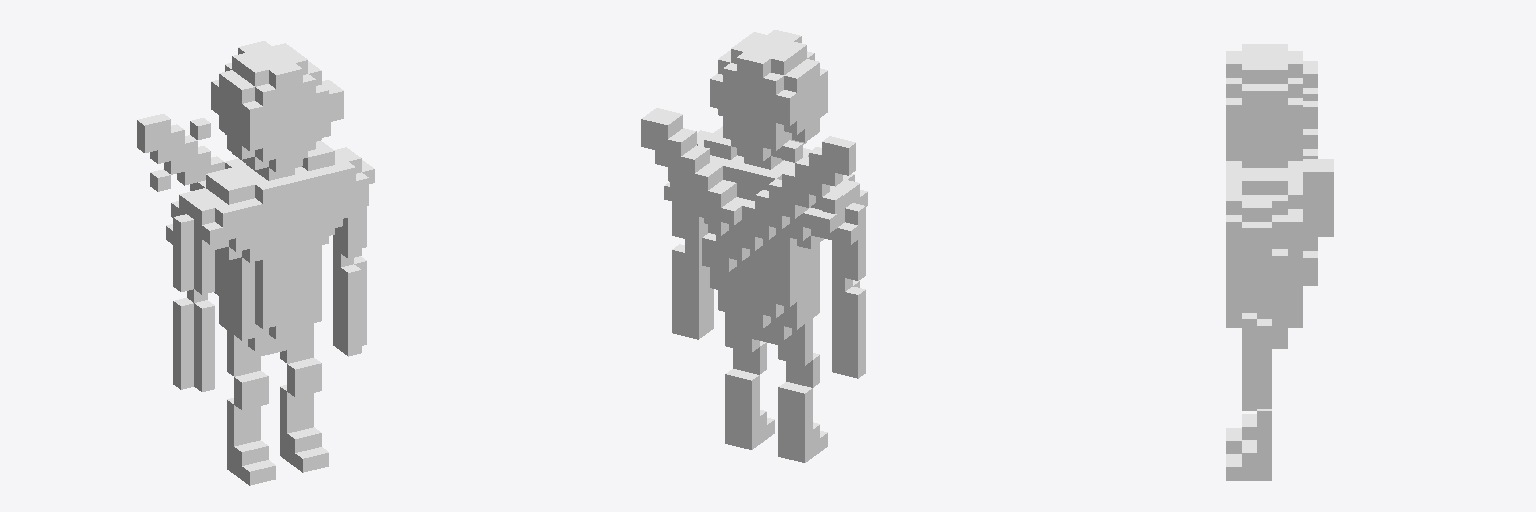
Rendered from vedmack.obj.
The picture shows the model from 3 angles: view 1: azimuth 30°, elevation 25°; view 2: azimuth 150°, elevation 25°; view 3: azimuth 270°, elevation 25°; orthographic projection.
Visible parts, largest first — view 1: object 1; view 2: object 1; view 3: object 1.
Part boxes in pixels (left/top/right/bottom): object 1: left=137, top=41, right=374, bottom=485; object 1: left=641, top=30, right=867, bottom=462; object 1: left=1226, top=44, right=1333, bottom=480.
Size of the model in its own units: 1.5 by 2.9 by 0.7.